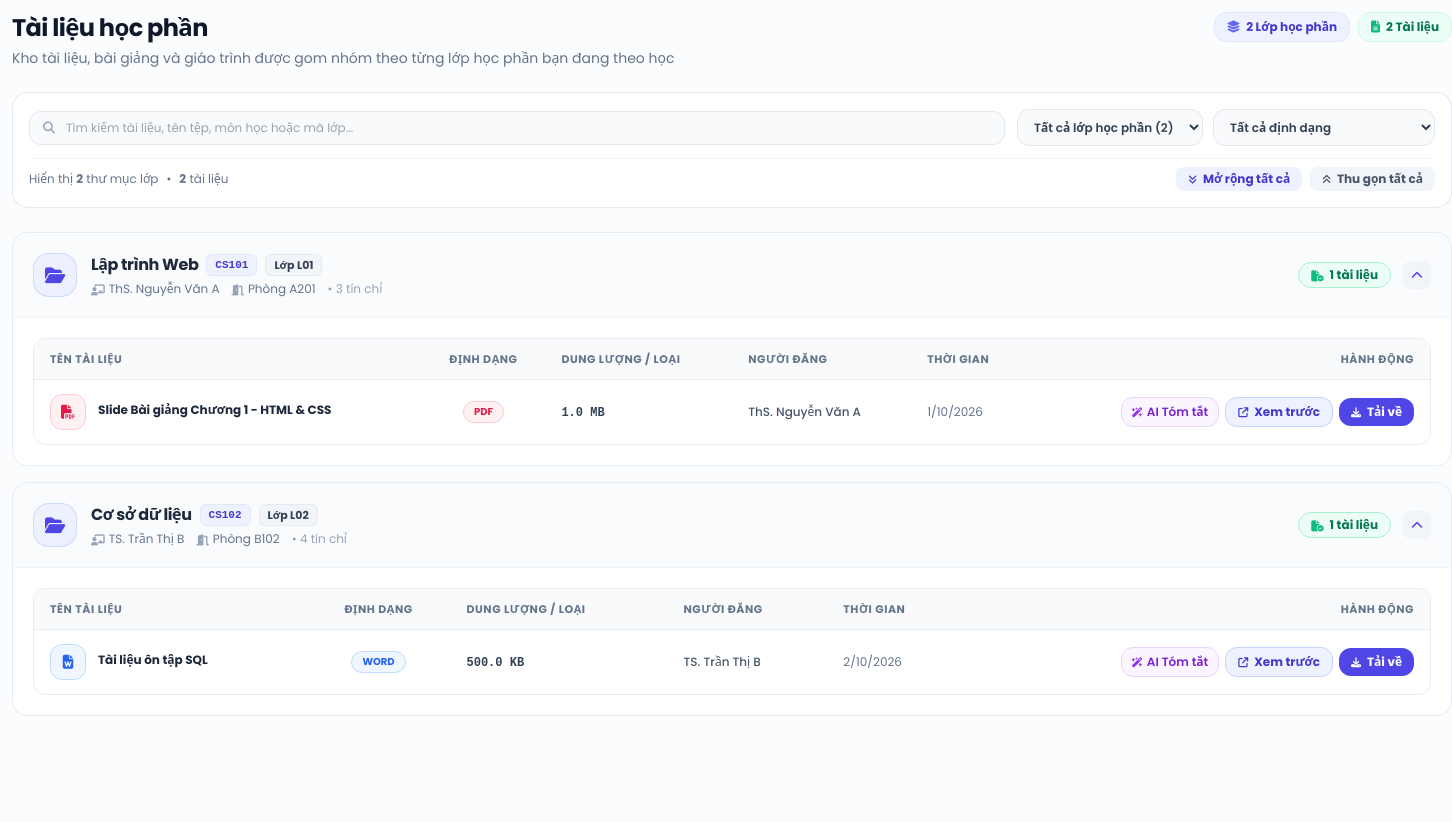
Scenario: StudentDocumentList (Grouped by Class) › filters folders when search input is used
Expected: the text "ThS. Nguyễn Văn A" is shown, [109,281,220,297]
Type "SQL" into the field with placeholder "Tìm kiếm tài liệu, tên tệp, môn học hoặc mã lớp..." at (517, 128), box [29,110,1005,144]
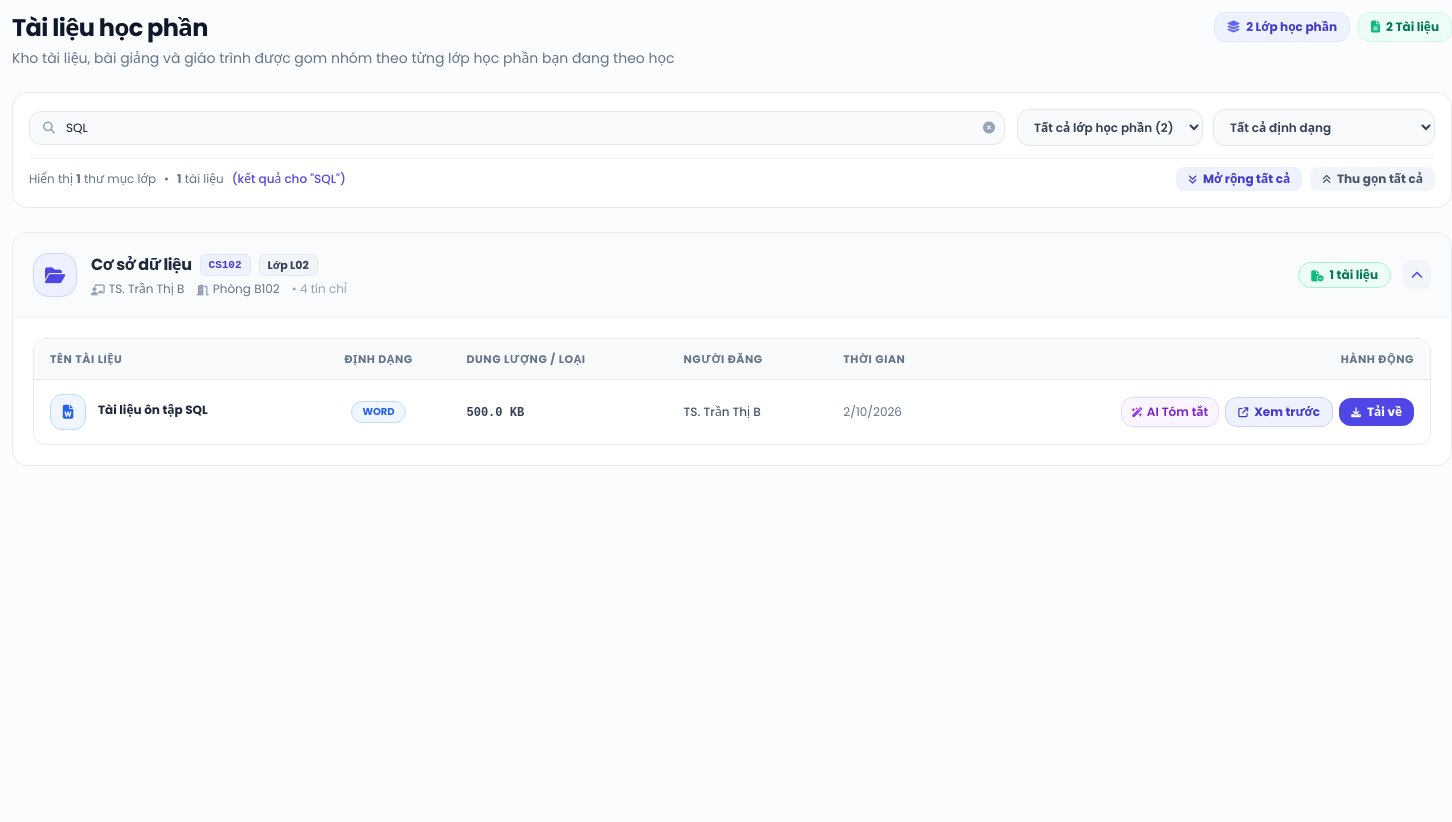
Expected: the text "Cơ sở dữ liệu" is shown, [91,253,192,277]
Result: the text "ThS. Nguyễn Văn A" is gone
